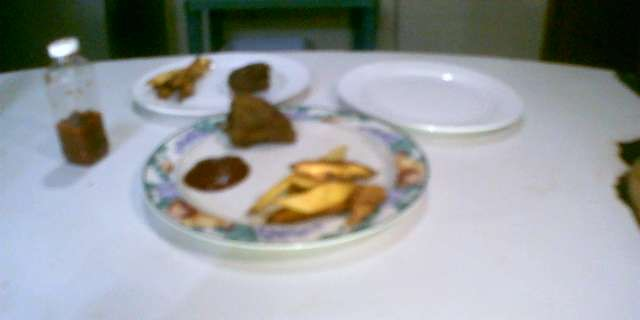chicken: (219, 88, 304, 154), (220, 55, 274, 102)
empty_plate: (328, 55, 533, 139)
ketchup_bottle: (35, 31, 115, 171)
ketchup_portion: (182, 148, 252, 194)
potatoe_fries: (252, 145, 390, 236), (140, 48, 215, 106)
